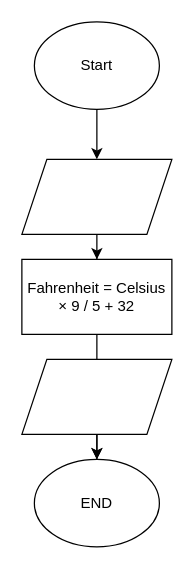
The diagram is 194 pixels wide and 569 high, and some of its shapes have lost their labels. Each missing label, with the box of its shape:
Input temperature in Celsius: (21, 158, 172, 234)
Output Celsius and Fahrenheit: (21, 358, 172, 434)
